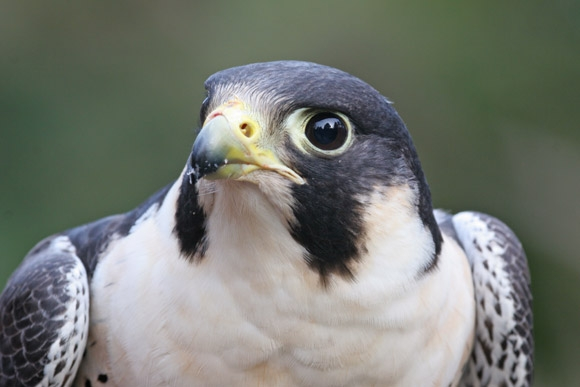Pengoyak Daging: (178, 115, 247, 193)
